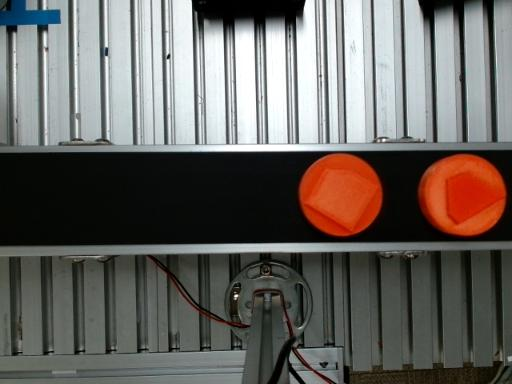Not_Square: (303, 167, 381, 234), (446, 171, 508, 225)
Orange_Waper: (418, 154, 508, 235), (299, 154, 382, 236)
